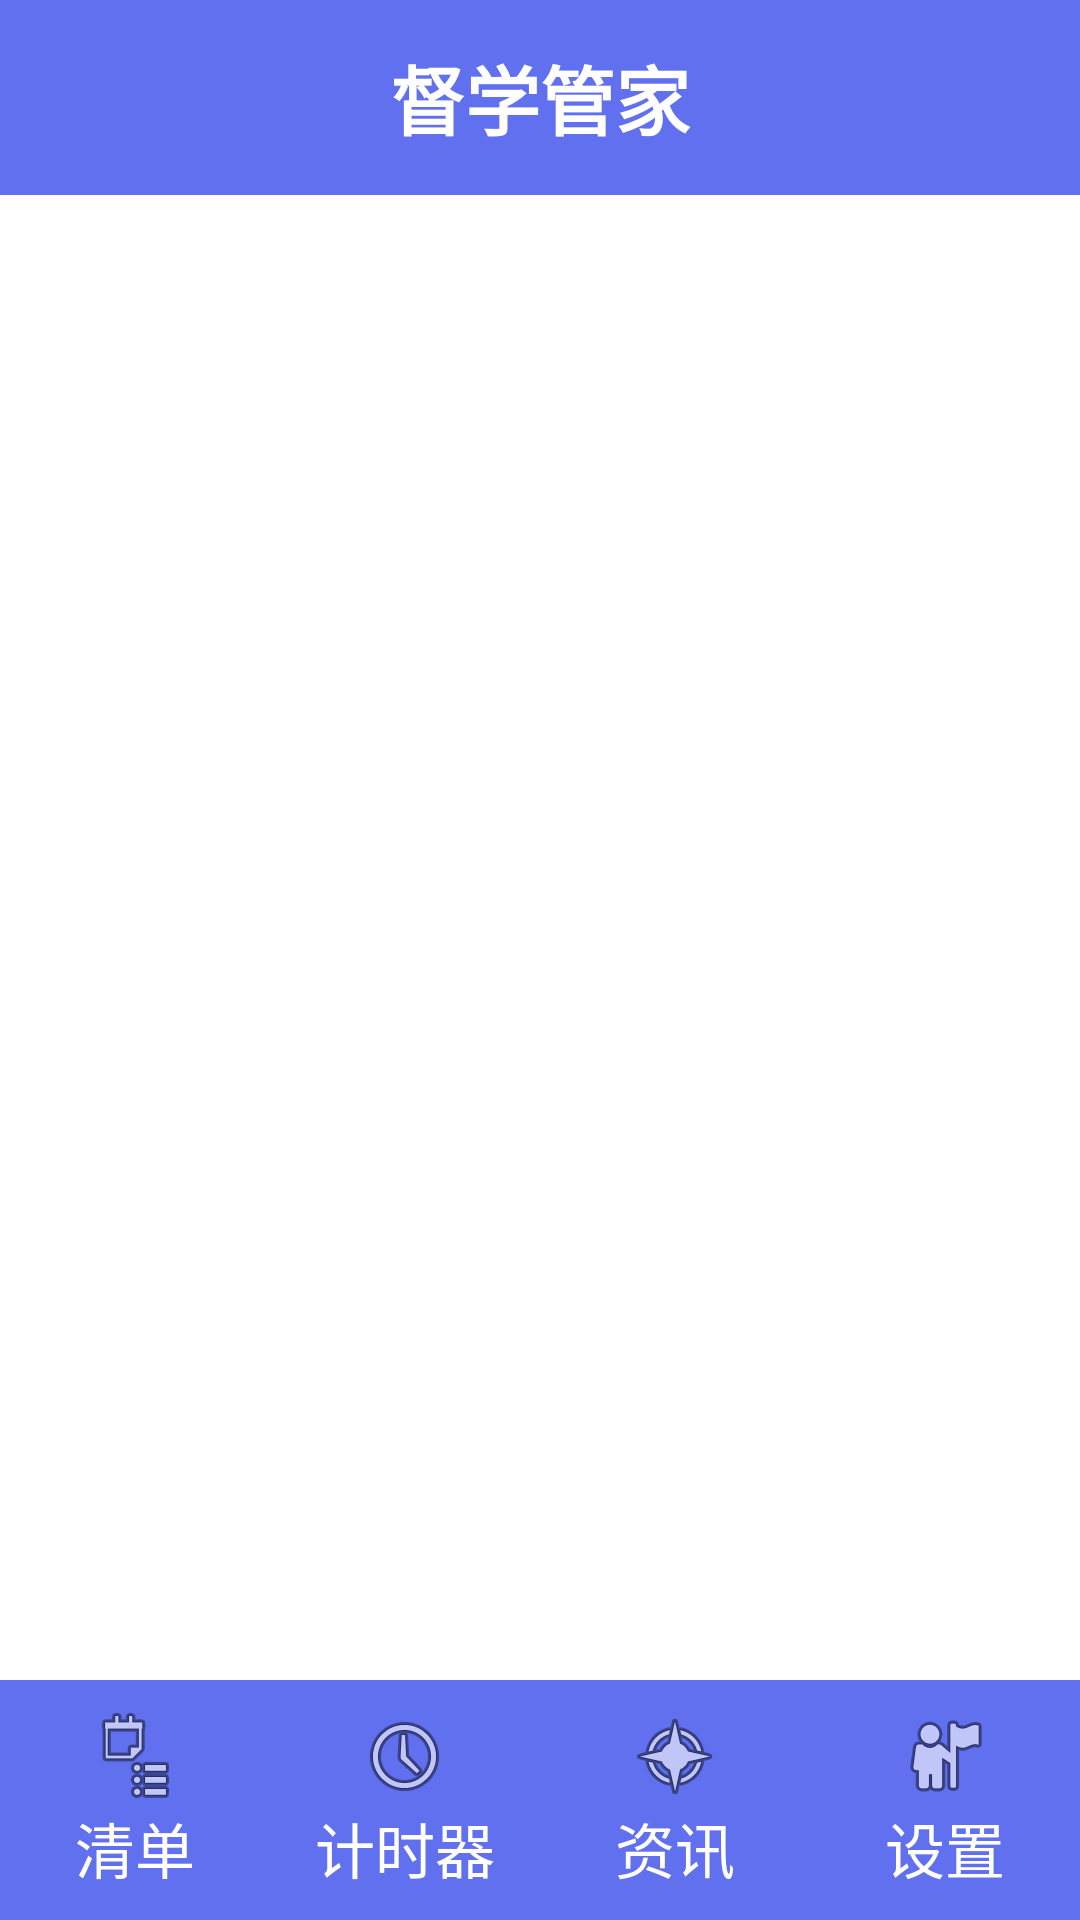

Where to tap for icons on this 1080*1920 app screen, as [x,y]:
agenda: [135,1755]
compass: [675,1756]
myplaces: [946,1756]
recent history: [404,1756]
